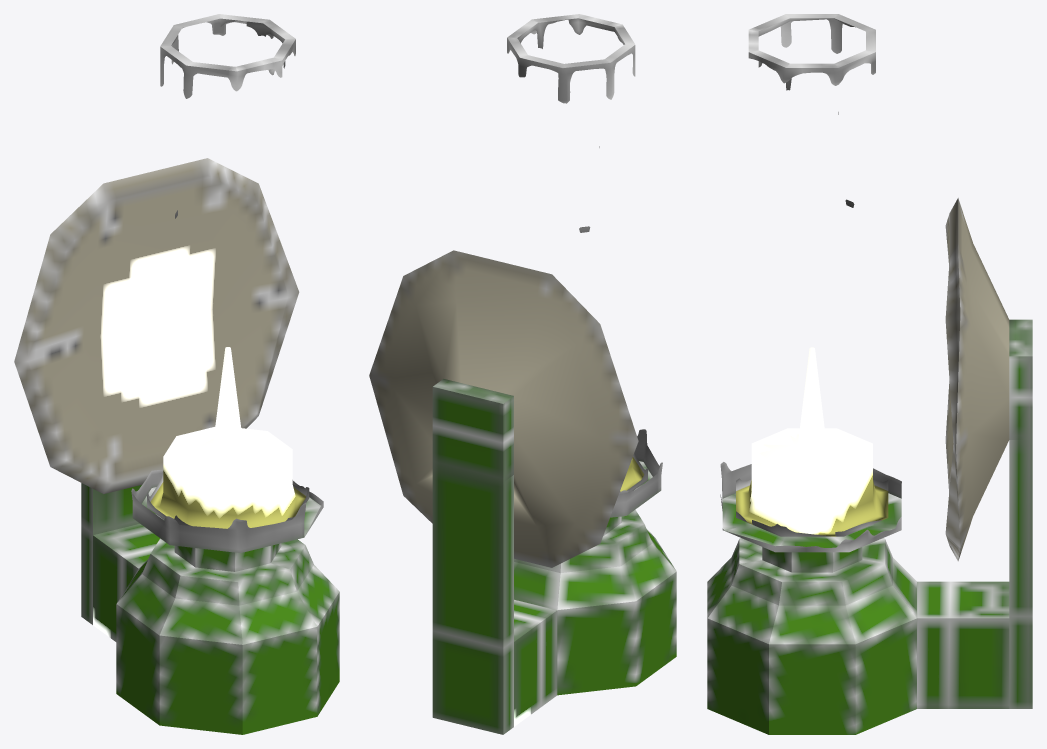
The model's file is lamp.fbx.
3 views of the same model, side by side, from view 1: azimuth 30°, elevation 25°; view 2: azimuth 150°, elevation 25°; view 3: azimuth 270°, elevation 25° (orthographic). The views are drawn at different scales.
Visible parts, largest first — view 1: pasted__Lamo; view 2: pasted__Lamo; view 3: pasted__Lamo.
Boxes of the visible parts, x1,y1,x2,y2 form: pasted__Lamo: [14, 14, 339, 734]; pasted__Lamo: [369, 14, 676, 734]; pasted__Lamo: [707, 14, 1032, 734].
Size of the model in its own units: 14.74 by 31.86 by 14.49.
1 material, 1 textured.
